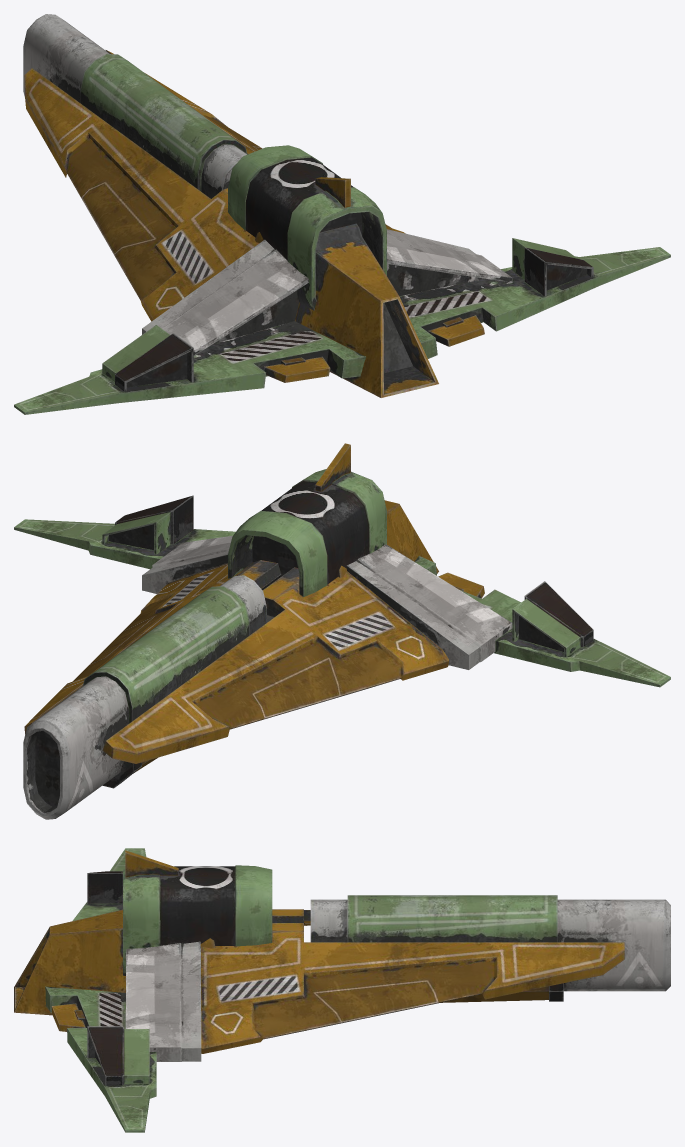
Rendered from quaternius-omen.glb.
3 views of the same model, one above another, from view 1: azimuth 30°, elevation 25°; view 2: azimuth 150°, elevation 25°; view 3: azimuth 270°, elevation 25° (orthographic). The views are drawn at different scales.
Visible parts, largest first — view 1: Omen; view 2: Omen; view 3: Omen.
Boxes of the visible parts, x1=… form: Omen: x1=14, y1=14, x2=670, y2=414; Omen: x1=14, y1=443, x2=670, y2=819; Omen: x1=14, y1=848, x2=670, y2=1132.
Size of the model in its own units: 12.78 by 3.14 by 12.58.
1 material, 1 textured.
